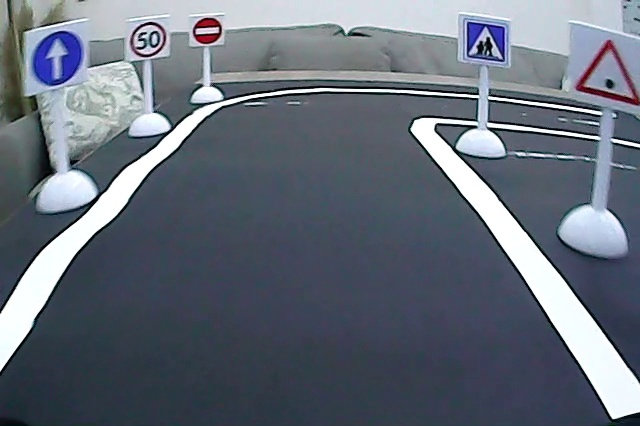do not enter: (190, 14, 223, 45)
green light: (571, 34, 640, 111)
school crossing: (463, 18, 508, 65)
speed limit 50: (127, 19, 168, 58)
